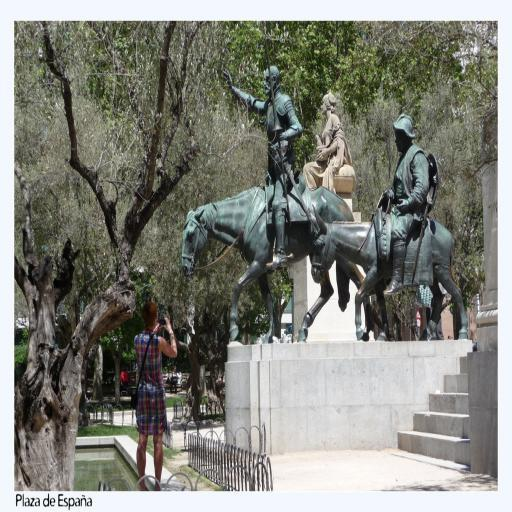Horse: (180, 179, 374, 347), (310, 204, 469, 338)
